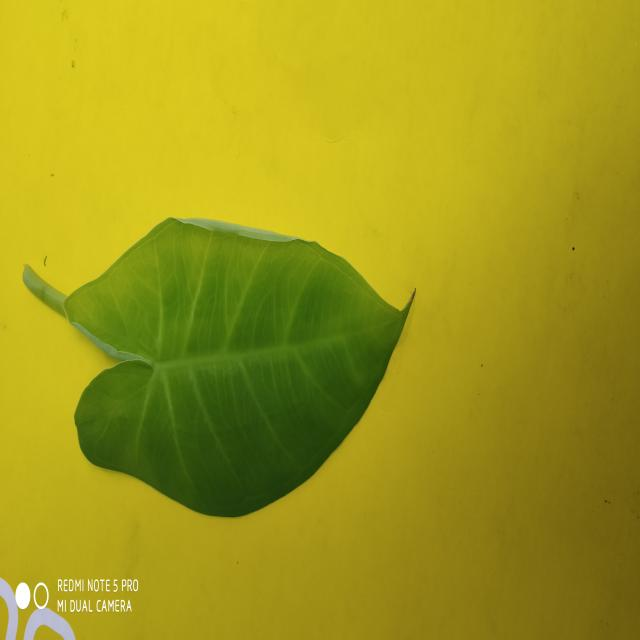taro: (22, 218, 415, 518)
